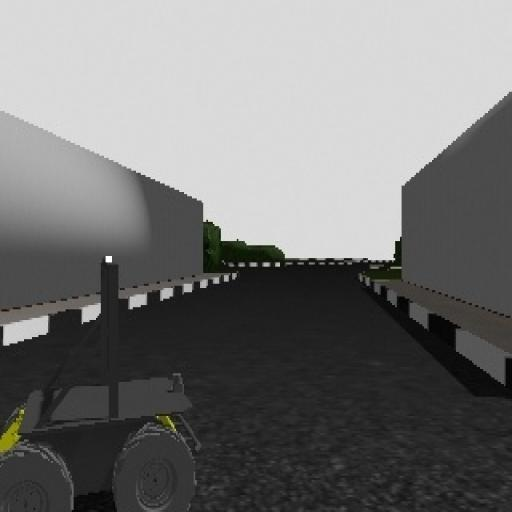huskya200: (2, 239, 229, 512)
